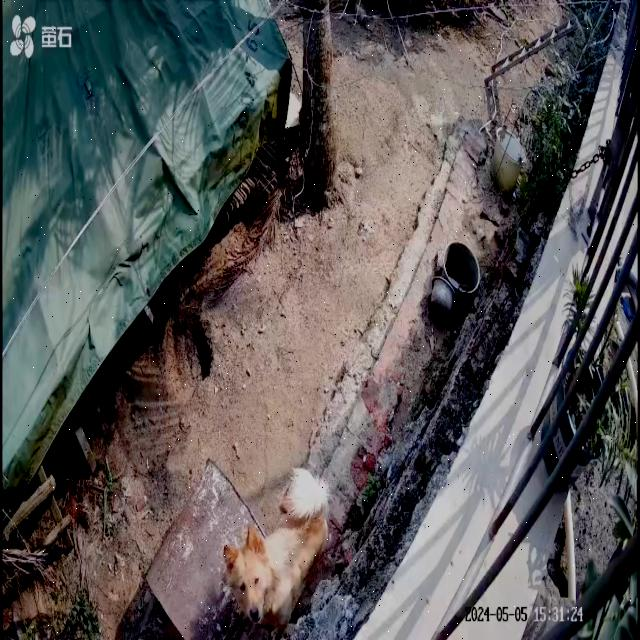dog: (224, 468, 330, 640)
